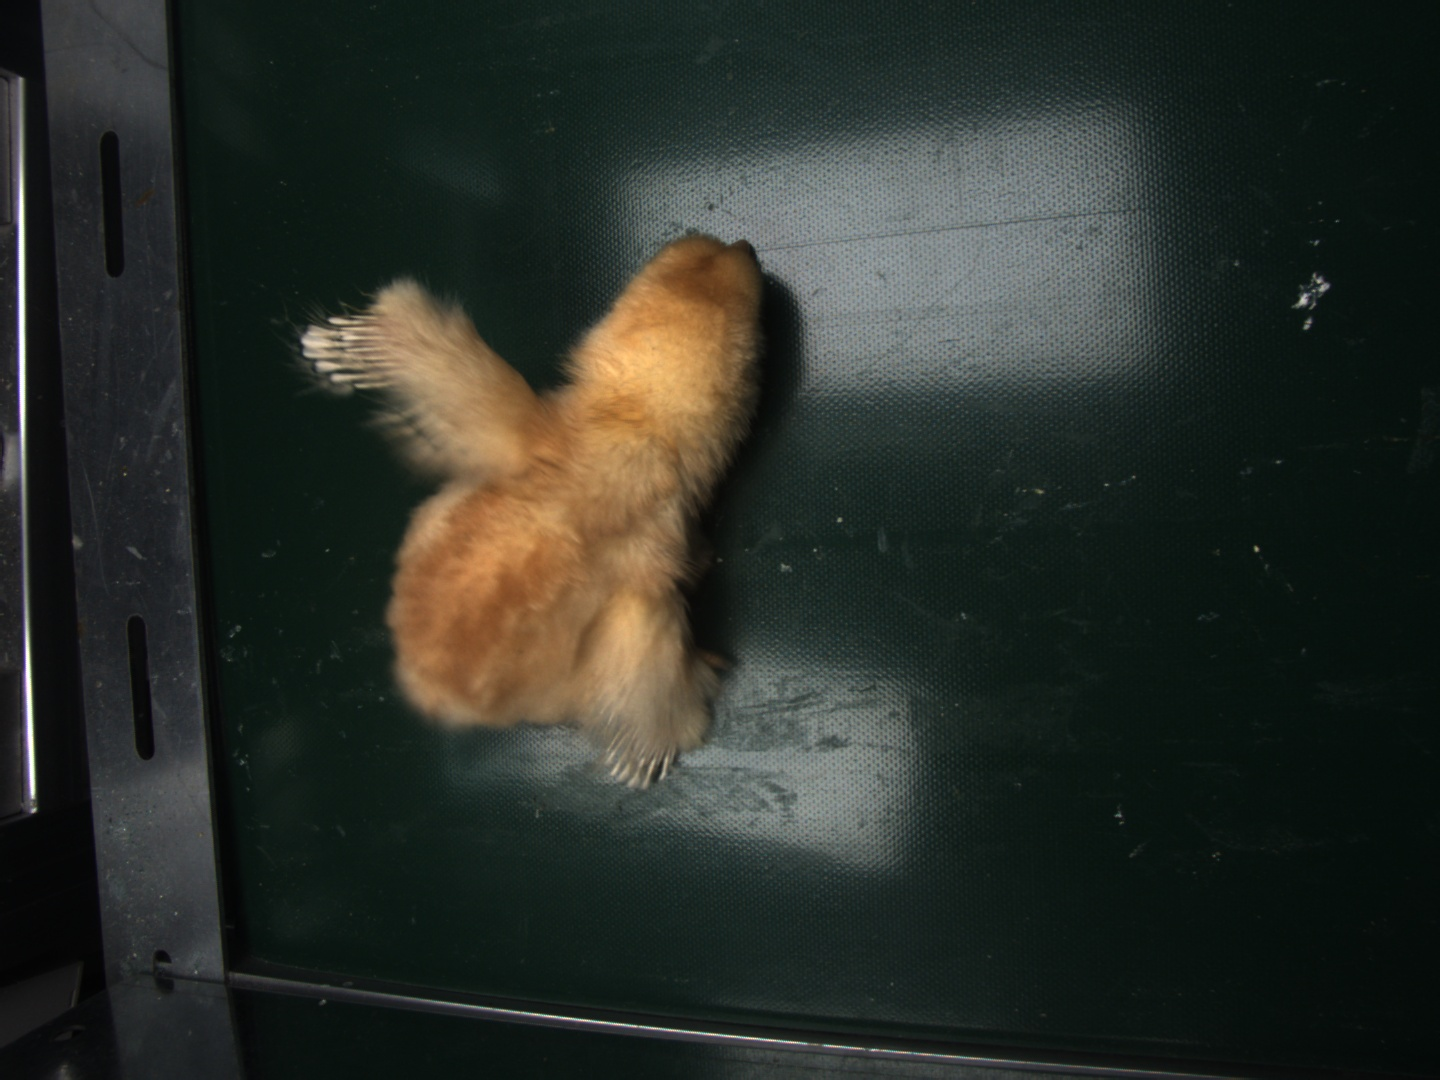female: (300, 313, 392, 391)
